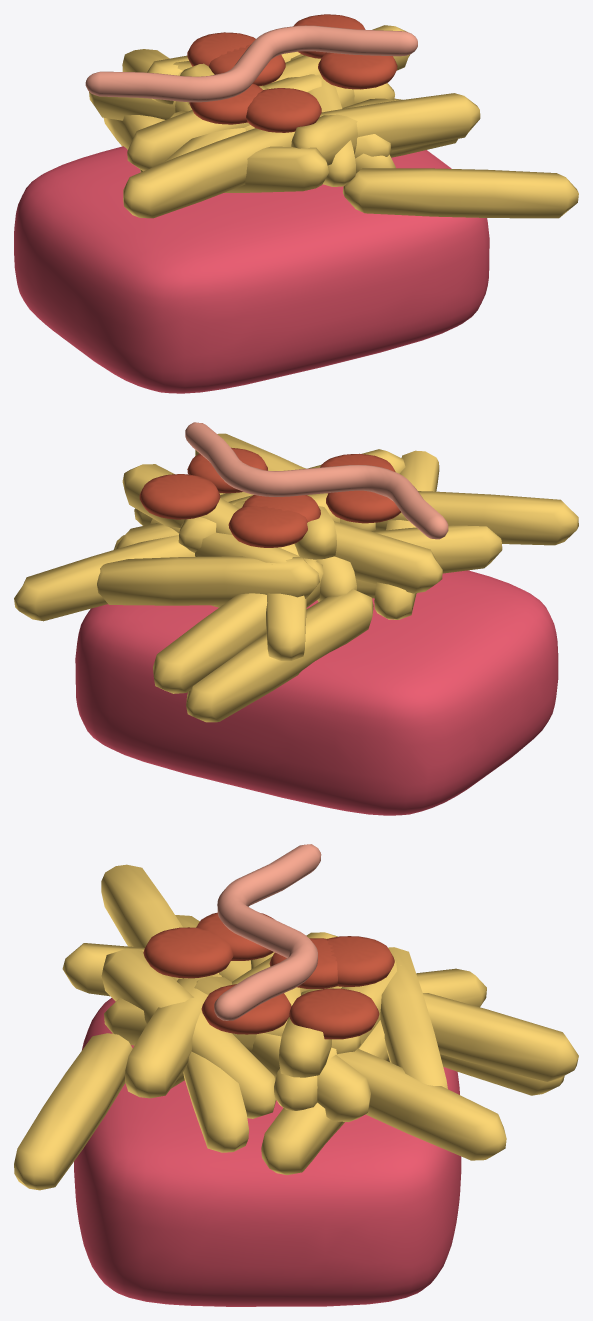
The model's file is comida_salchipapa.glb.
3 views of the same model, one above another, from view 1: azimuth 30°, elevation 25°; view 2: azimuth 150°, elevation 25°; view 3: azimuth 270°, elevation 25° (orthographic). The views are drawn at different scales.
Parts seen in each view (by area): view 1: caja salchipapa.001, papa 4.001, salsa rosada.001, papa 0.001, papa 12.001, papa 20.001, papa 13.001, rodaja salchicha 2.001, rodaja salchicha 0.001, papa 6.001, papa 21.001, papa 18.001 (+12 smaller); view 2: caja salchipapa.001, papa 14.001, papa 9.001, salsa rosada.001, papa 8.001, papa 0.001, papa 3.001, papa 20.001, papa 11.001, rodaja salchicha 5.001, papa 13.001, rodaja salchicha 3.001 (+13 smaller); view 3: caja salchipapa.001, papa 4.001, salsa rosada.001, papa 3.001, papa 8.001, papa 6.001, papa 14.001, papa 12.001, papa 15.001, papa 17.001, papa 0.001, papa 7.001 (+13 smaller).
Part boxes in pixels (box(x1,y1,x2,y2)): caja salchipapa.001: box(14, 146, 489, 393); papa 4.001: box(343, 168, 578, 218); salsa rosada.001: box(85, 25, 417, 102); papa 0.001: box(123, 128, 292, 218); papa 12.001: box(289, 93, 480, 150); papa 20.001: box(127, 74, 322, 171); papa 13.001: box(140, 146, 328, 192); rodaja salchicha 2.001: box(246, 88, 321, 132); rodaja salchicha 0.001: box(318, 52, 397, 89); papa 6.001: box(291, 98, 394, 165); papa 21.001: box(290, 54, 355, 186); papa 18.001: box(89, 92, 175, 120); caja salchipapa.001: box(75, 570, 558, 815); papa 14.001: box(97, 556, 319, 605); papa 9.001: box(186, 589, 373, 722); salsa rosada.001: box(185, 422, 448, 539); papa 8.001: box(153, 558, 323, 693); papa 0.001: box(375, 491, 578, 545); papa 3.001: box(14, 535, 195, 621); papa 20.001: box(234, 500, 442, 593); papa 11.001: box(372, 525, 502, 573); rodaja salchicha 5.001: box(139, 474, 220, 519); papa 13.001: box(374, 450, 439, 619); rodaja salchicha 3.001: box(228, 505, 307, 547); caja salchipapa.001: box(74, 998, 461, 1306); papa 4.001: box(14, 1033, 132, 1190); salsa rosada.001: box(214, 844, 321, 1020); papa 3.001: box(336, 1048, 506, 1160); papa 8.001: box(336, 986, 578, 1081); papa 6.001: box(101, 948, 276, 1118); papa 14.001: box(380, 947, 447, 1088); papa 12.001: box(125, 973, 221, 1098); papa 15.001: box(261, 1020, 389, 1174); papa 17.001: box(183, 1051, 248, 1152); papa 0.001: box(101, 864, 187, 981); papa 7.001: box(194, 976, 370, 1122).
Bounding box in the file's own units: 0.2806 × 0.1776 × 0.2914.
